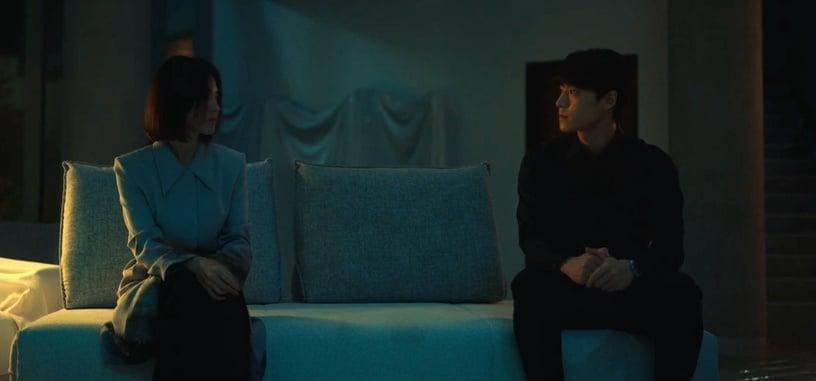bending: (495, 39, 711, 381), (100, 50, 269, 381)
